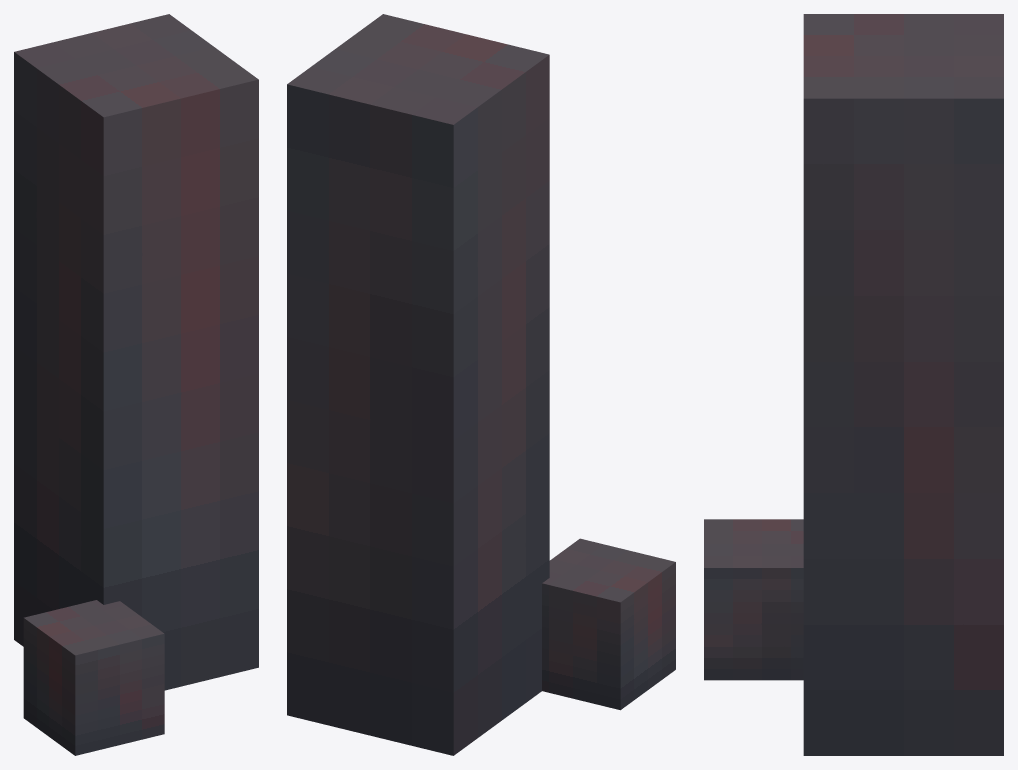
Rendered from hematite_crystal_two.obj.
3 views of the same model, side by side, from view 1: azimuth 30°, elevation 25°; view 2: azimuth 150°, elevation 25°; view 3: azimuth 270°, elevation 25° (orthographic). The views are drawn at different scales.
Parts seen in each view (by area): view 1: Crystal5_Cube.008; view 2: Crystal5_Cube.008; view 3: Crystal5_Cube.008.
Part boxes in pixels (x1=…): Crystal5_Cube.008: x1=14, y1=14, x2=258, y2=755; Crystal5_Cube.008: x1=287, y1=14, x2=675, y2=755; Crystal5_Cube.008: x1=704, y1=14, x2=1003, y2=755.
Size of the model in its own units: 0.1355 by 0.3335 by 0.1379.
